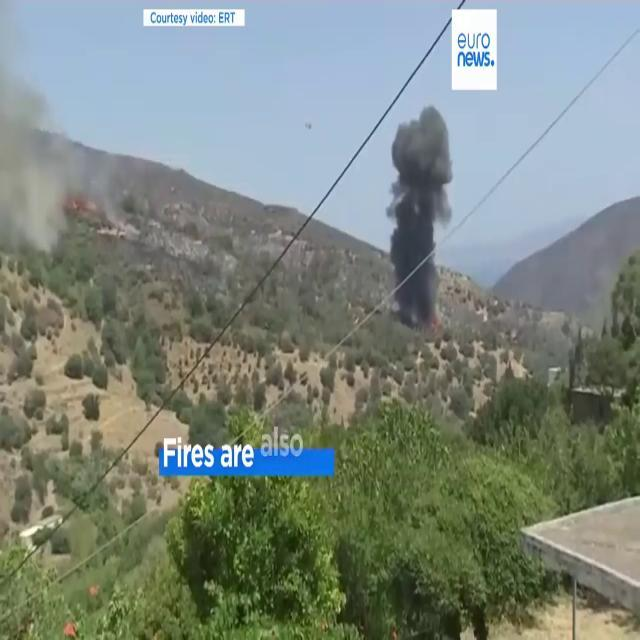Smoke: (0, 2, 84, 264), (383, 97, 455, 320)
